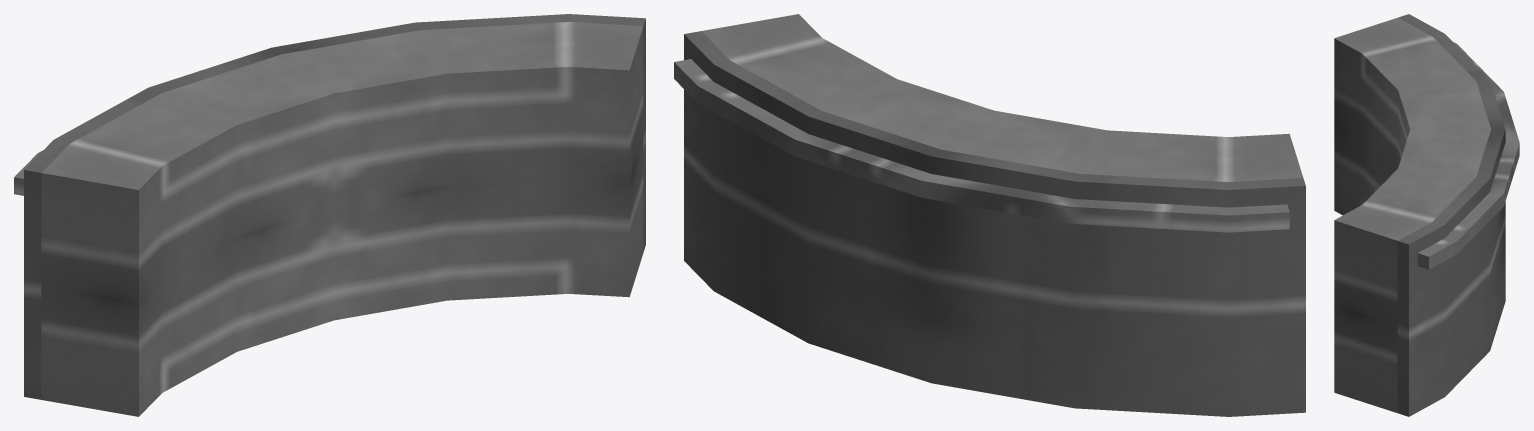
The model's file is ras1_basic.obj.
The picture shows the model from 3 angles, left to right: view 1: azimuth 30°, elevation 25°; view 2: azimuth 150°, elevation 25°; view 3: azimuth 270°, elevation 25°; orthographic projection. The views are drawn at different scales.
Visible parts, largest first — view 1: shortb; view 2: shortb; view 3: shortb.
Boxes of the visible parts, x1,y1,x2,y2 form: shortb: [14, 14, 645, 416]; shortb: [674, 14, 1305, 416]; shortb: [1334, 14, 1519, 416].
Size of the model in its own units: 1.43 by 0.5 by 0.4876.
